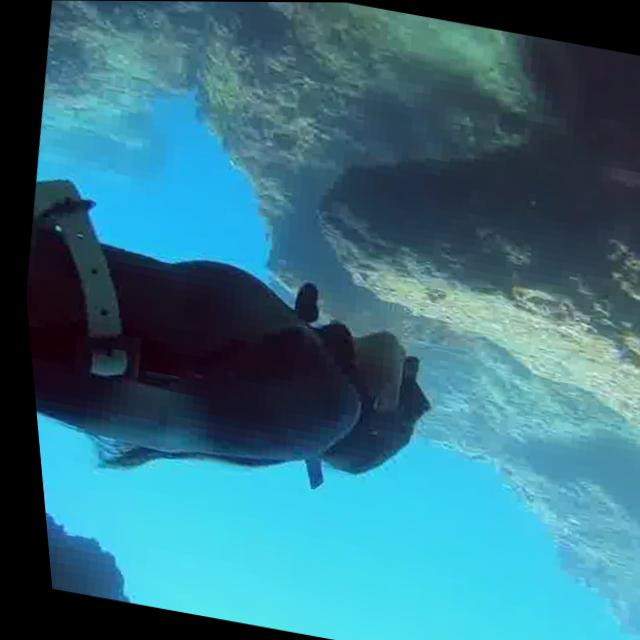human: (11, 153, 476, 544)
